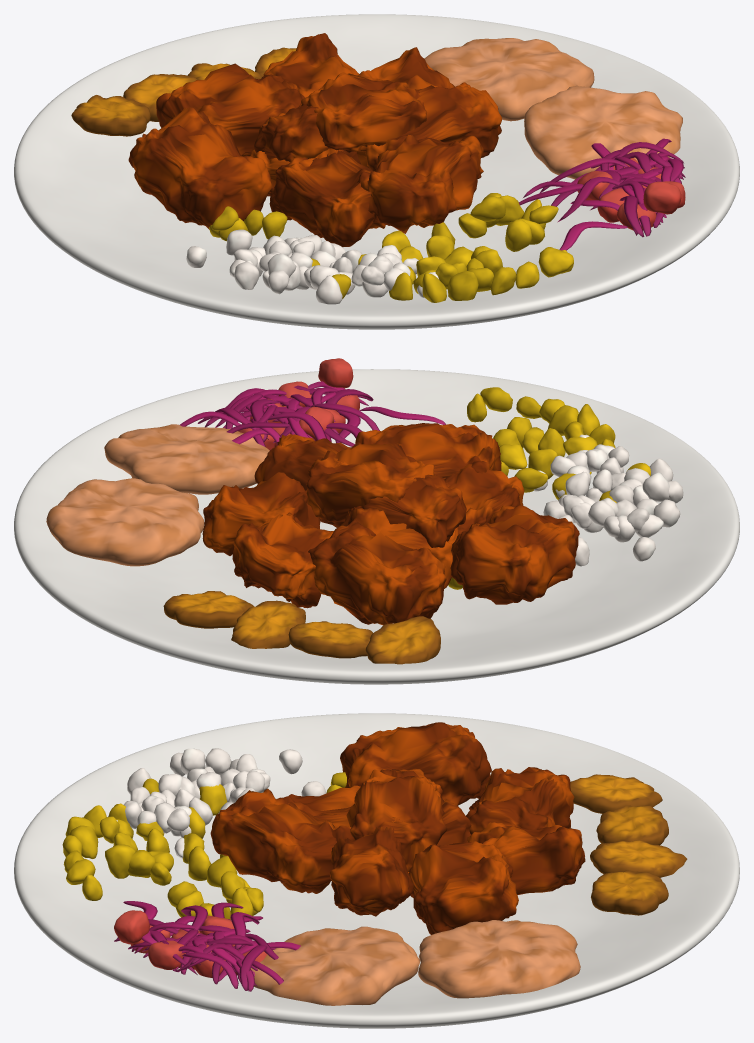
The model's file is comida_m1.glb.
The picture shows the model from 3 angles, top to bottom: view 1: azimuth 30°, elevation 25°; view 2: azimuth 150°, elevation 25°; view 3: azimuth 270°, elevation 25°; orthographic projection.
Parts seen in each view (by area): view 1: vajilla, fritada_cerdo, llapingachos, maiz_tostado, mote, curtido_cebolla, platano_maduro, curtido_tomate; view 2: vajilla, fritada_cerdo, llapingachos, platano_maduro, mote, maiz_tostado, curtido_cebolla, curtido_tomate; view 3: vajilla, fritada_cerdo, llapingachos, maiz_tostado, platano_maduro, mote, curtido_cebolla, curtido_tomate.
Part boxes in pixels (bbox=[...]): vajilla: bbox=[14, 14, 739, 329]; fritada_cerdo: bbox=[128, 33, 502, 246]; llapingachos: bbox=[424, 38, 682, 179]; maiz_tostado: bbox=[209, 193, 573, 302]; mote: bbox=[186, 229, 438, 304]; curtido_cebolla: bbox=[519, 138, 685, 250]; platano_maduro: bbox=[71, 47, 296, 136]; curtido_tomate: bbox=[577, 158, 685, 230]; vajilla: bbox=[14, 369, 739, 684]; fritada_cerdo: bbox=[202, 423, 579, 625]; llapingachos: bbox=[46, 424, 269, 566]; platano_maduro: bbox=[163, 591, 440, 664]; mote: bbox=[533, 434, 683, 566]; maiz_tostado: bbox=[448, 387, 650, 589]; curtido_cebolla: bbox=[180, 381, 445, 446]; curtido_tomate: bbox=[238, 358, 359, 450]; vajilla: bbox=[14, 713, 739, 1028]; fritada_cerdo: bbox=[210, 722, 585, 934]; llapingachos: bbox=[250, 920, 580, 1005]; maiz_tostado: bbox=[62, 772, 346, 919]; platano_maduro: bbox=[570, 774, 687, 915]; mote: bbox=[107, 748, 326, 858]; curtido_cebolla: bbox=[114, 901, 300, 991]; curtido_tomate: bbox=[114, 910, 267, 977].
Size of the model in its own units: 1.2 by 0.244 by 1.2.
